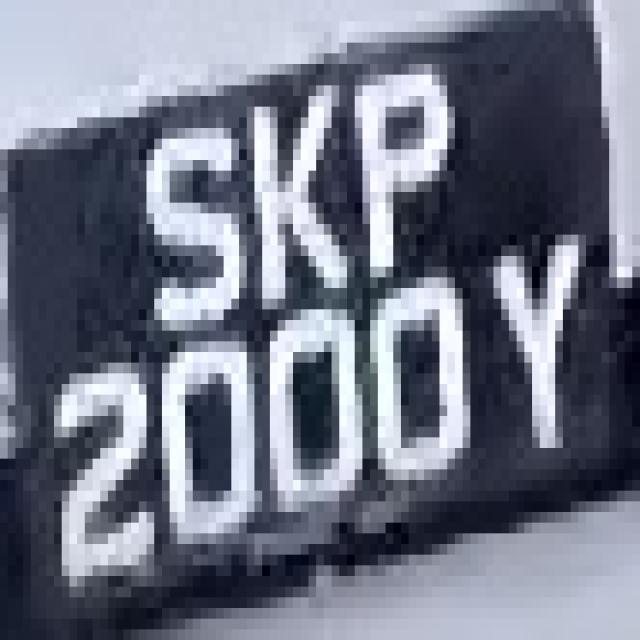0: (347, 246, 470, 534), (131, 320, 255, 555), (255, 299, 362, 533)
2: (23, 331, 147, 618)
K: (208, 74, 339, 330)
P: (332, 32, 455, 277)
S: (116, 85, 231, 363)
Y: (462, 192, 602, 491)
